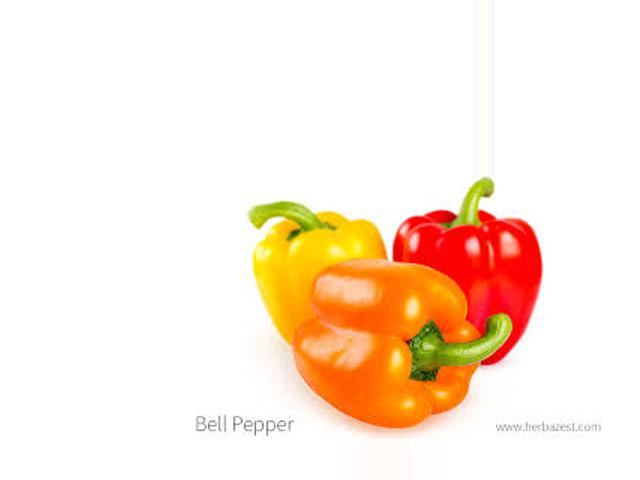bell_pepper: (240, 191, 391, 349)
